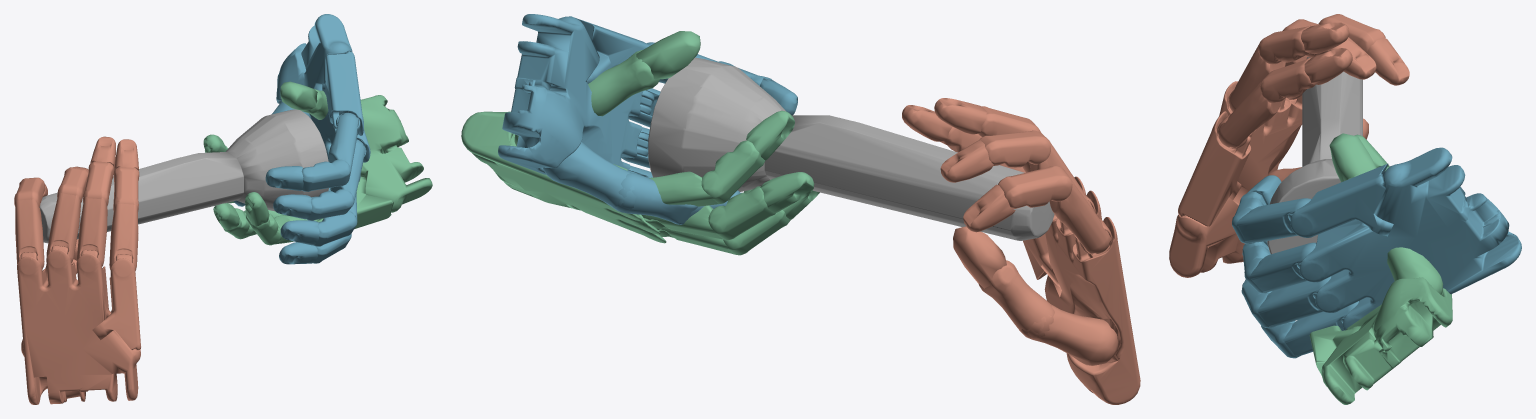
3 views of the same model, side by side, from view 1: azimuth 30°, elevation 25°; view 2: azimuth 150°, elevation 25°; view 3: azimuth 270°, elevation 25° (orthographic). The views are drawn at different scales.
Bounding box in the file's own units: 0.3655 × 0.2002 × 0.1973.
